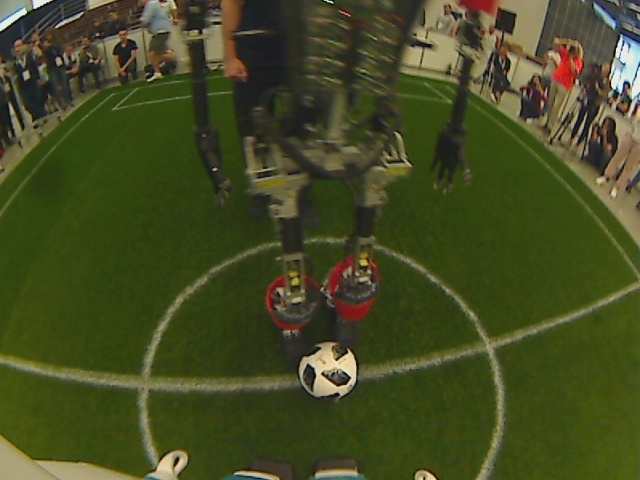ball: (296, 339, 361, 401)
